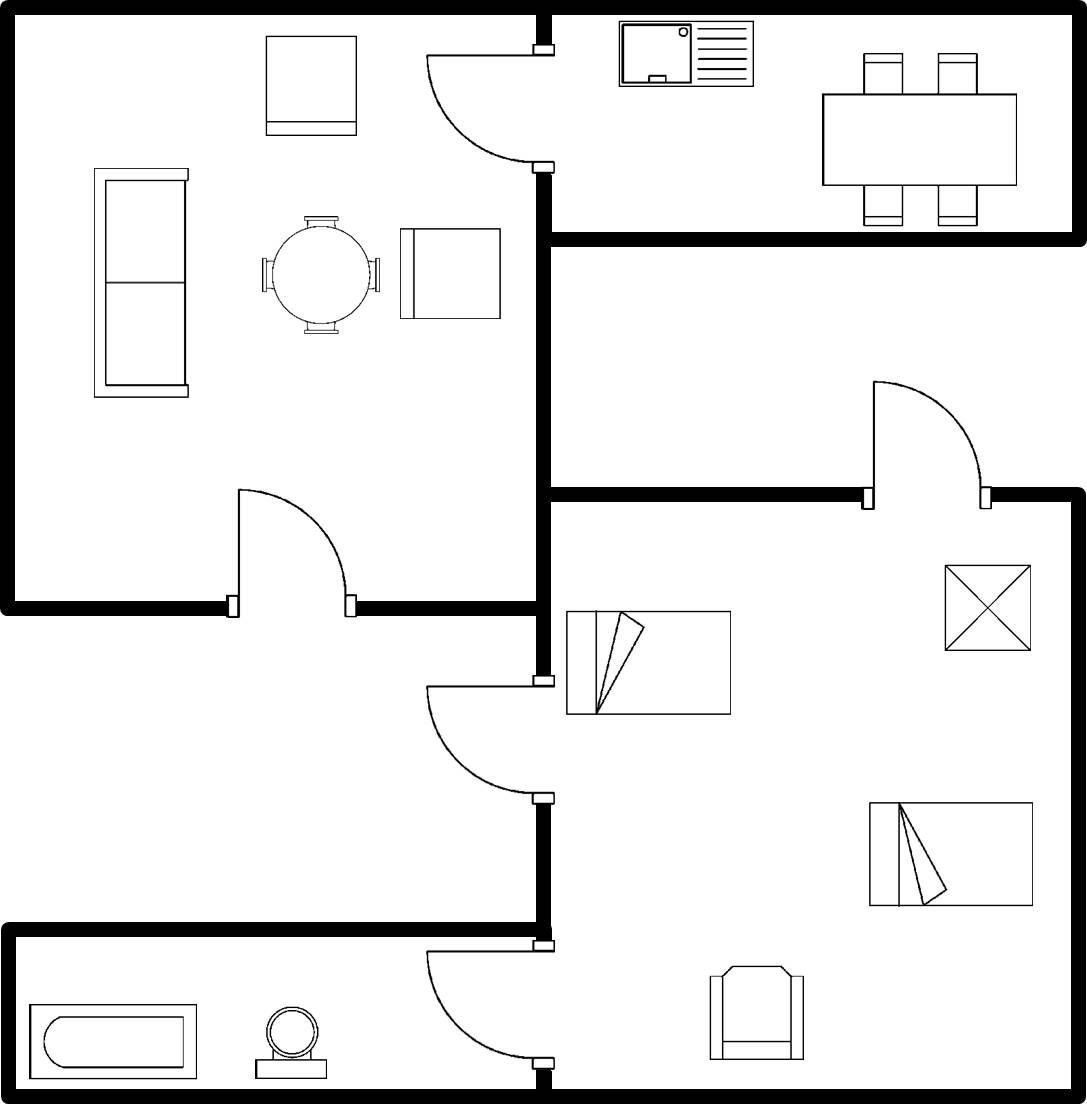armchair: (696, 952, 813, 1068)
bed: (858, 789, 1048, 915), (561, 603, 741, 725)
coffee_table: (936, 554, 1042, 660)
dining_table: (813, 43, 1025, 235)
large_sink: (244, 999, 339, 1083)
large_sofa: (83, 160, 198, 409)
round_table: (253, 207, 387, 350)
sink: (608, 14, 771, 101)
small_sofa: (254, 31, 373, 144), (392, 221, 510, 327)
tub: (23, 997, 206, 1085)
